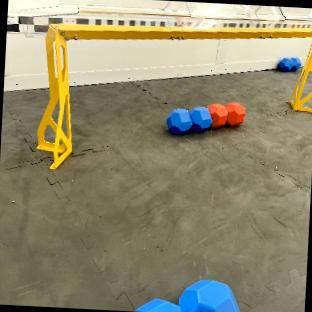Goal: (7, 0, 312, 168)
V5_BLUE: (136, 279, 238, 312), (166, 106, 210, 132), (278, 58, 295, 71), (291, 57, 301, 68)
V5_RED: (207, 102, 244, 127)
